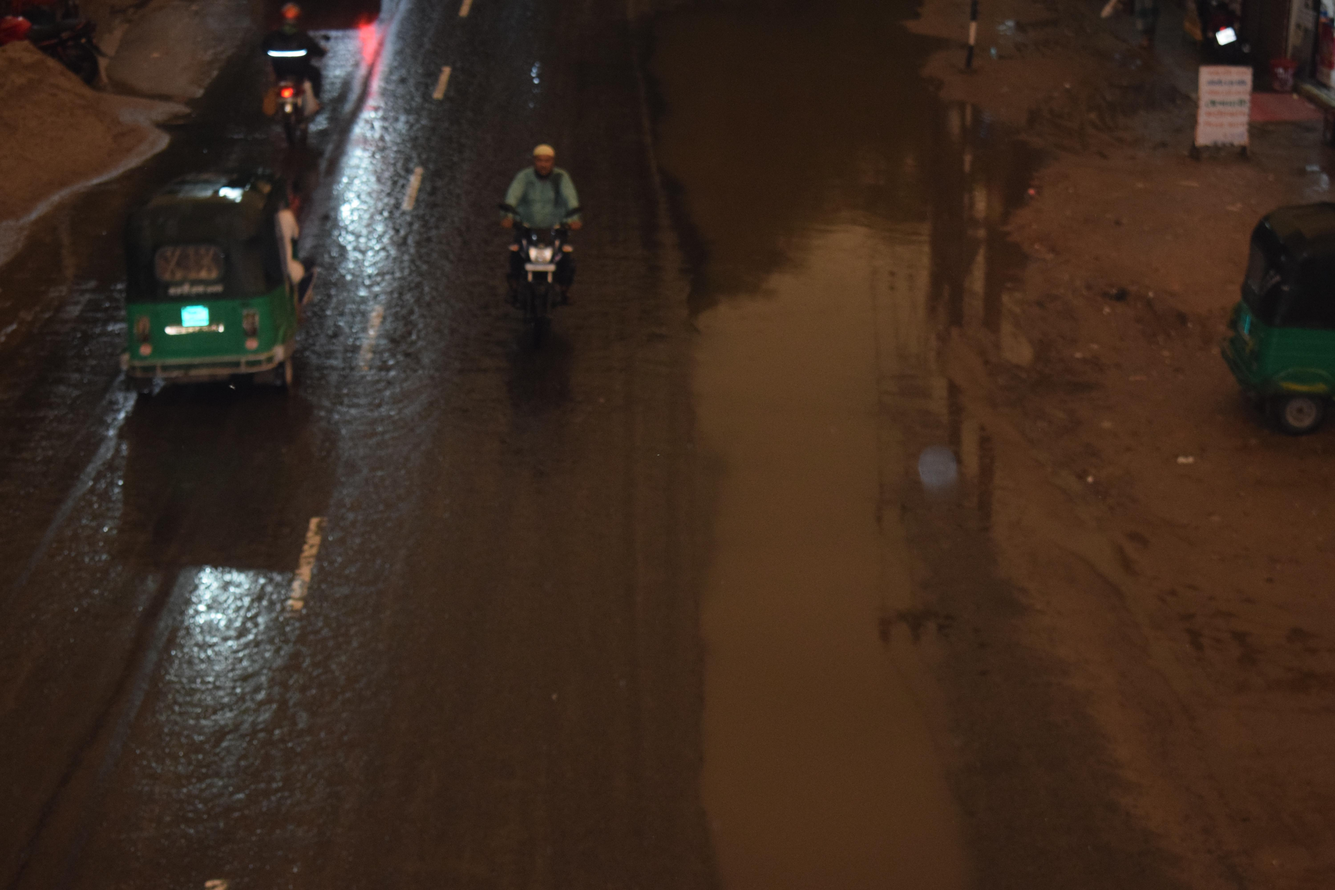Bike: (471, 90, 620, 375), (218, 0, 352, 184)
